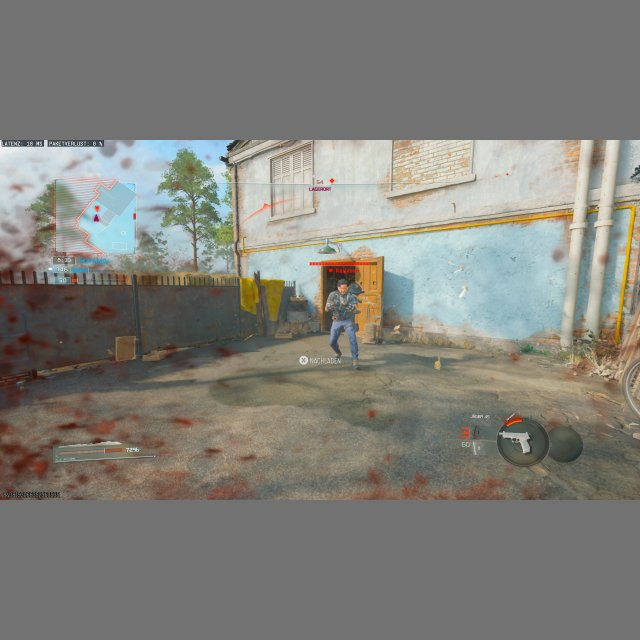head: (337, 277, 349, 292)
player: (326, 278, 362, 368)
